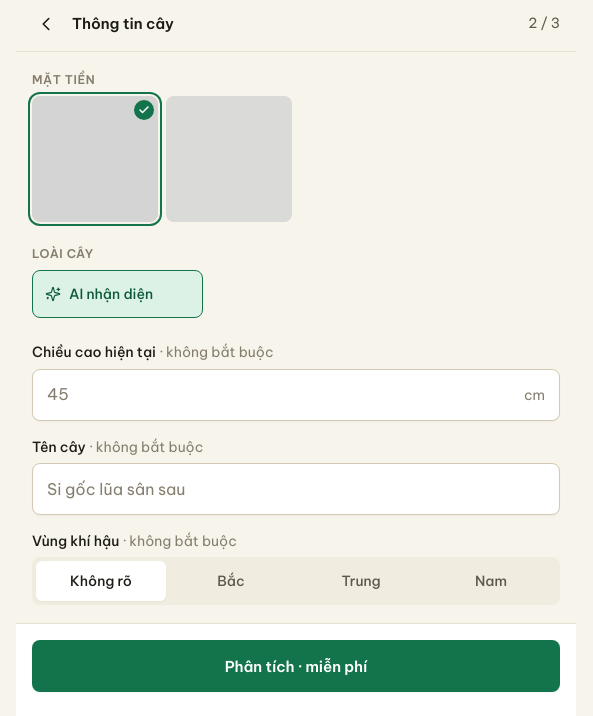
Test: TreeInfo › validates height
Type "abc" into the field labelled "Chiều cao hiện tại · không bắt buộc" at [285, 395], box [47,382,524,407]
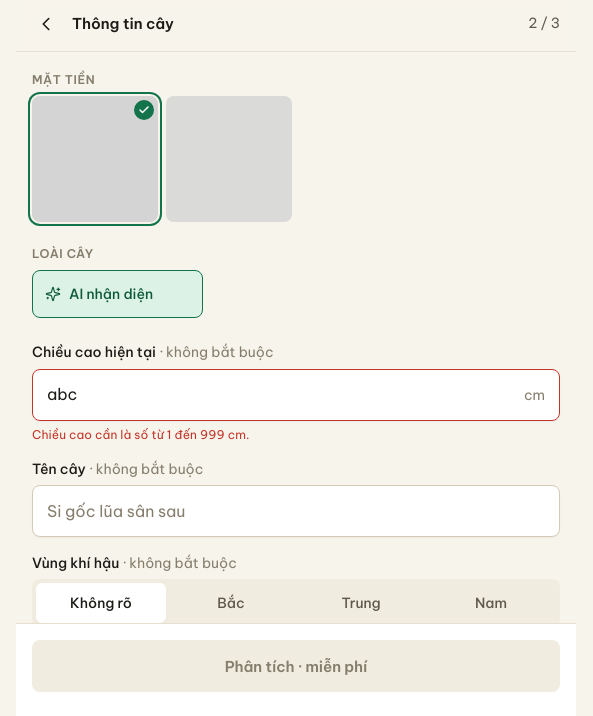
Check: the text "Chiều cao cần là số từ 1 đến 999 cm." is shown, box [32,427,250,442]
Check: the button "Phân tích · miễn phí" is disabled, box [32,640,560,692]
